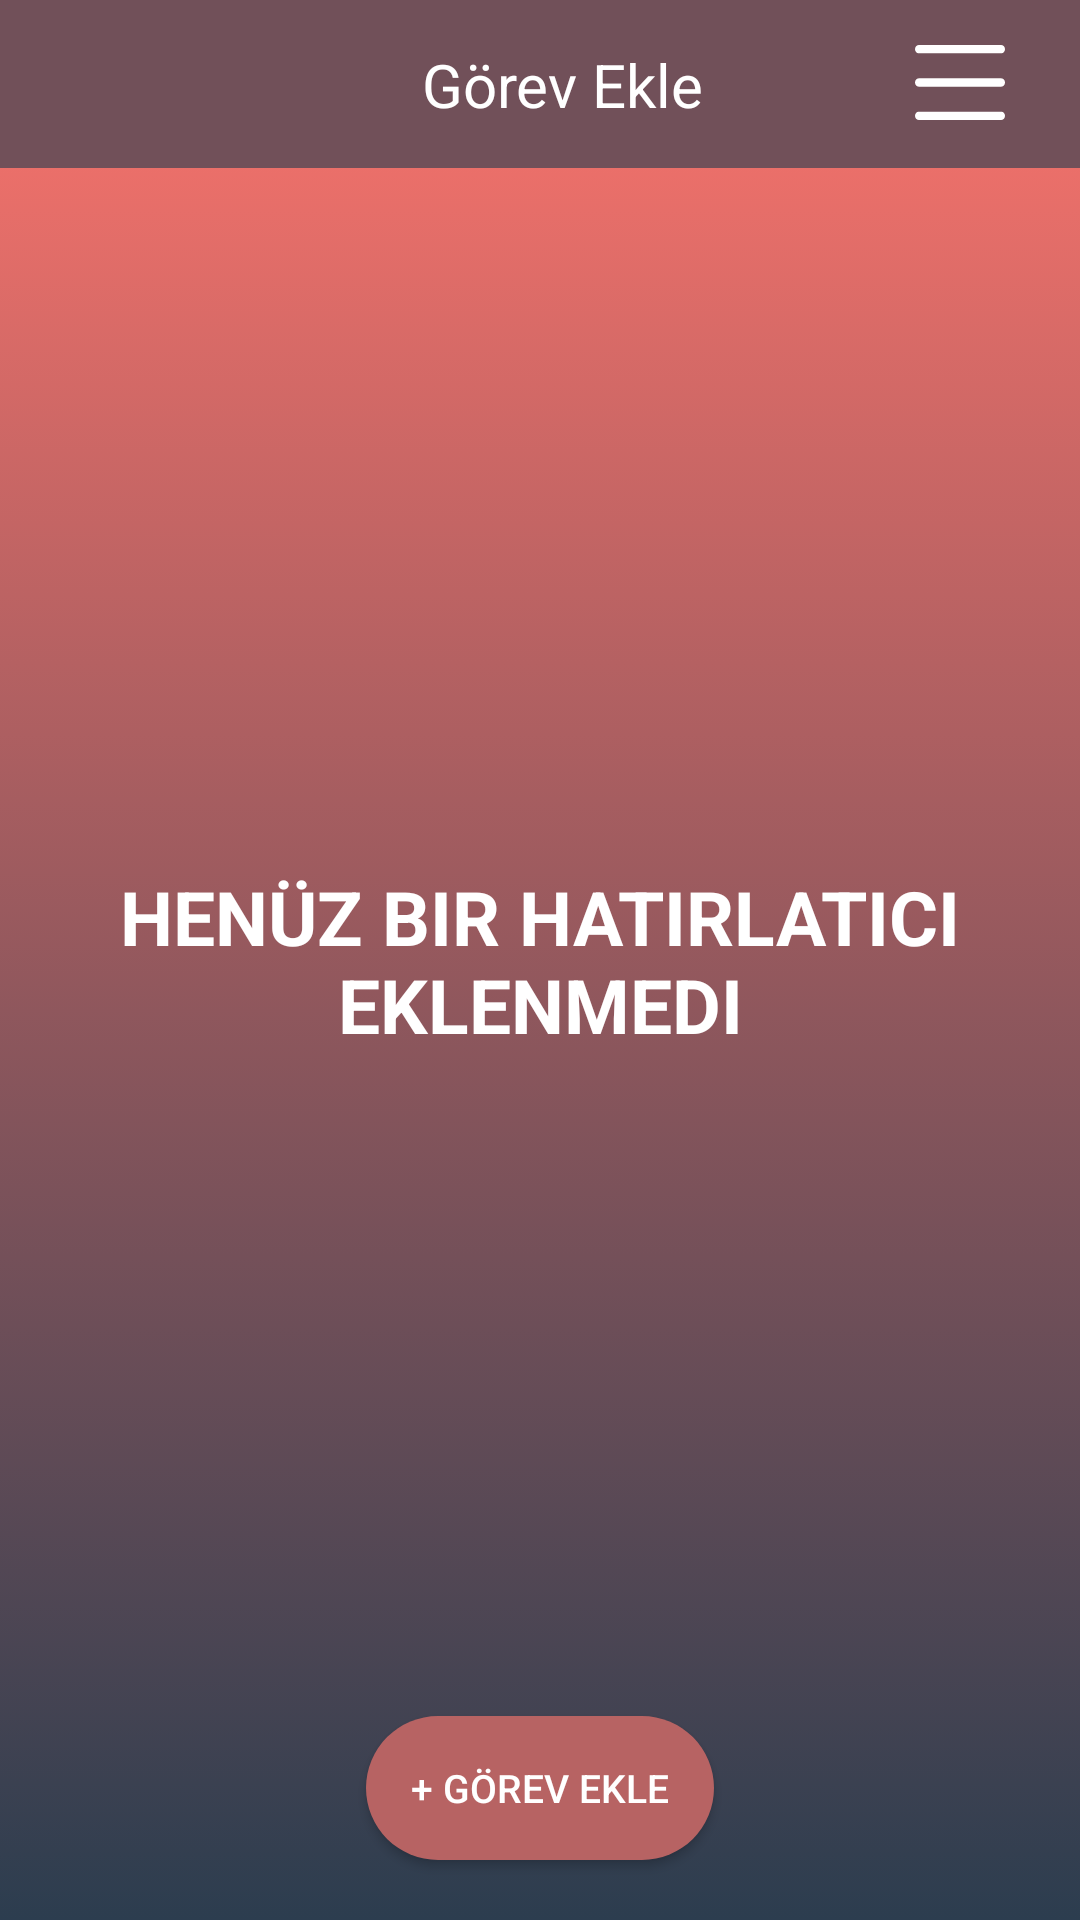

Where icons sit on this 1080×1920 app screen, as (x1, y1, x2, y2):
menu: (915, 45, 1005, 120)
